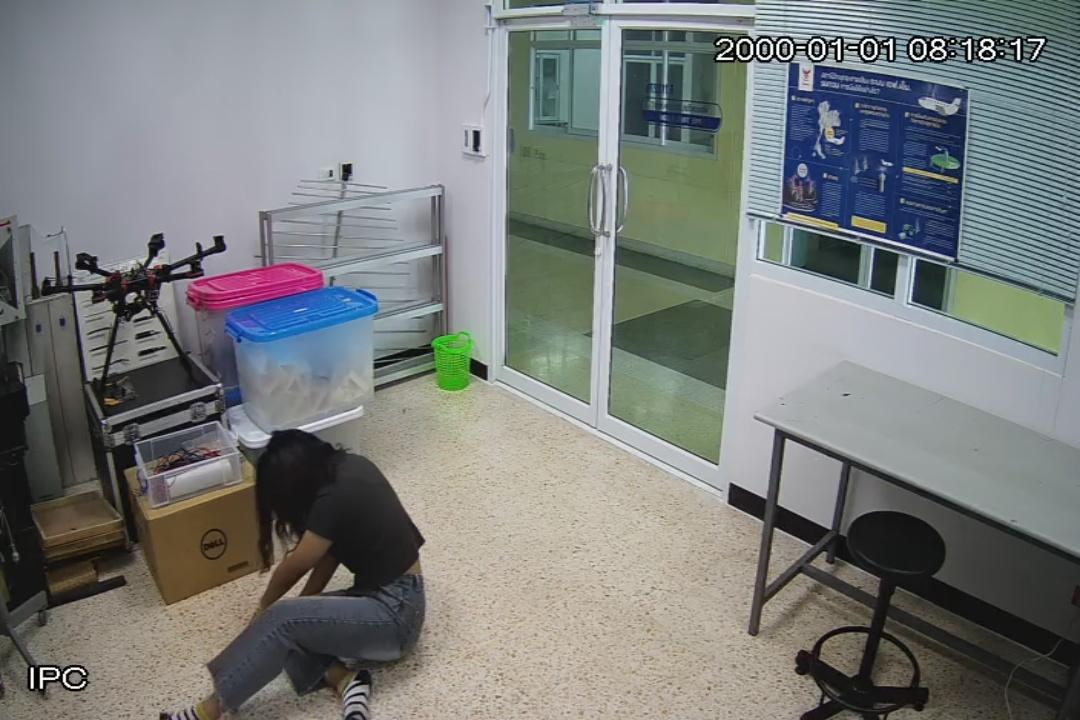fall: (150, 428, 430, 720)
